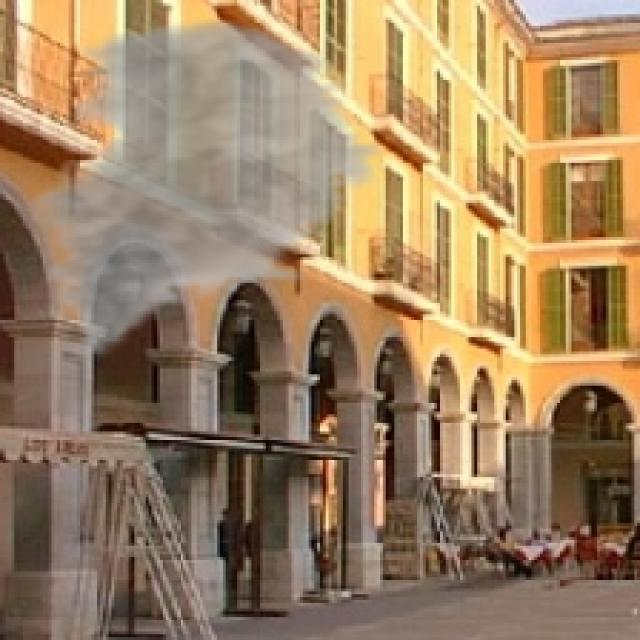Smoke: (19, 14, 392, 360)
